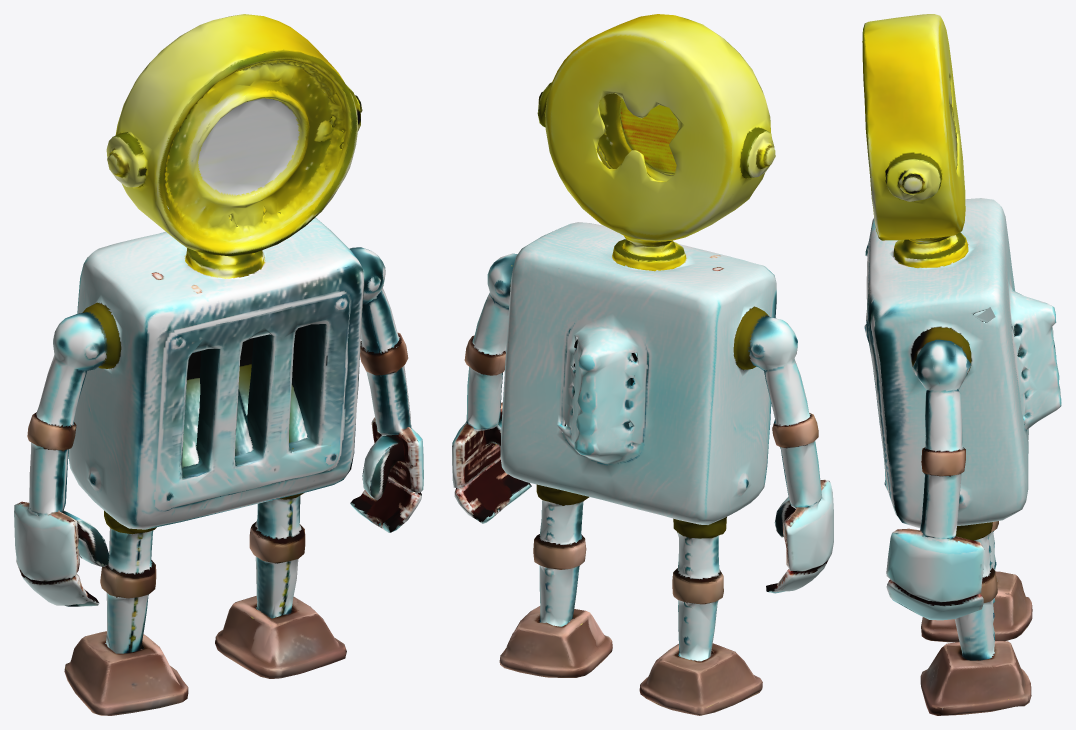
File: of_lodger_spare.glb
3 views of the same model, side by side, from view 1: azimuth 30°, elevation 25°; view 2: azimuth 150°, elevation 25°; view 3: azimuth 270°, elevation 25° (orthographic). The views are drawn at different scales.
Bounding box in the file's own units: 0.5408 × 0.8931 × 0.2533.
1 material, 1 textured.
